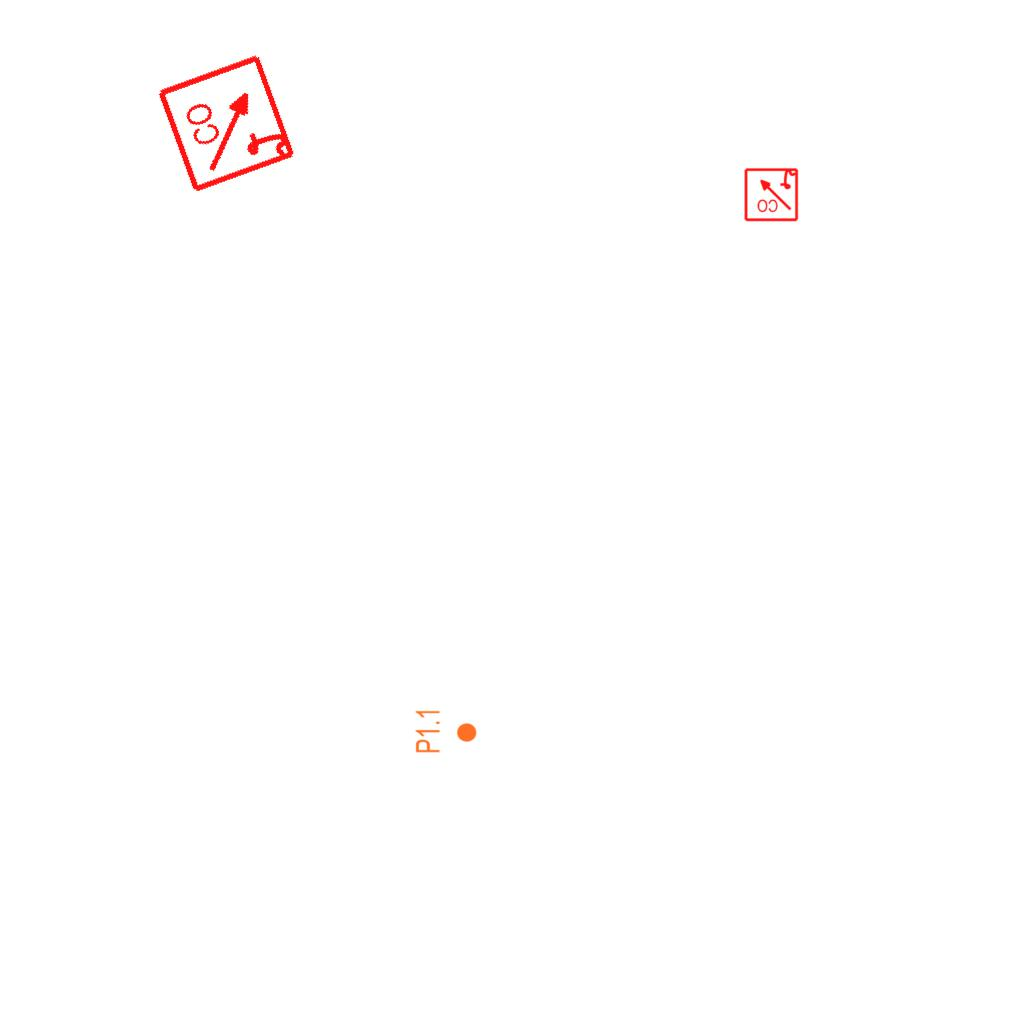Downlight_LED_Einbauleuchten_Flur: (414, 708, 478, 754)
ROA_Rauchmelder_optisch_mit_Signalgeber_(Sockelsirene): (155, 50, 300, 195), (743, 166, 799, 222)
